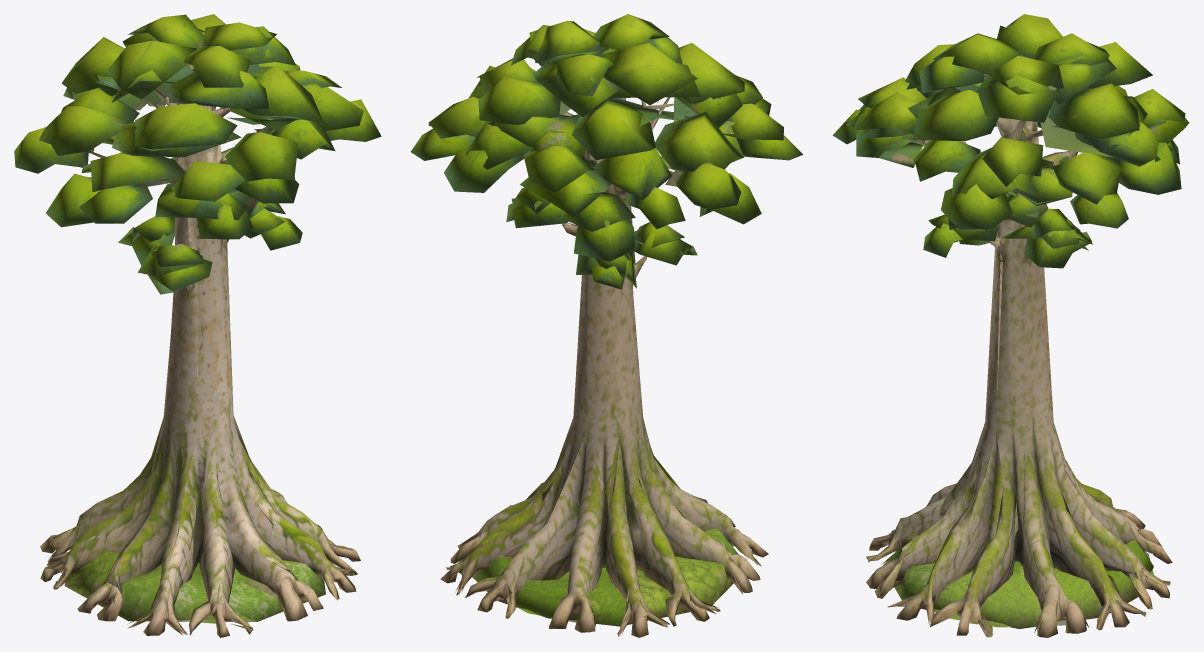
The model's file is Kapok.fbx.
3 renders of one model, left to right at view 1: azimuth 30°, elevation 25°; view 2: azimuth 150°, elevation 25°; view 3: azimuth 270°, elevation 25°, orthographic.
Parts seen in each view (by area): view 1: Kapok; view 2: Kapok; view 3: Kapok.
Part boxes in pixels (bbox=[...]): Kapok: bbox=[14, 14, 381, 637]; Kapok: bbox=[410, 14, 802, 637]; Kapok: bbox=[832, 14, 1189, 637].
Size of the model in its own units: 7.2 by 12 by 7.18.
1 material, 1 textured.
